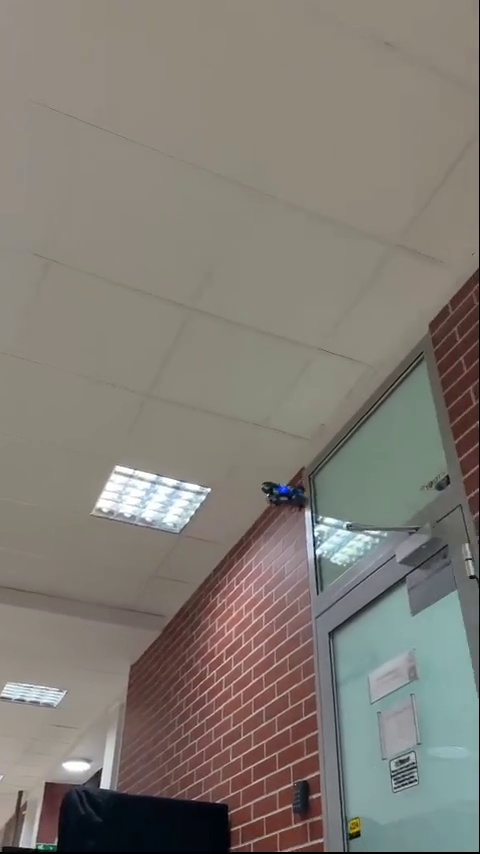drone: (261, 476, 307, 511)
